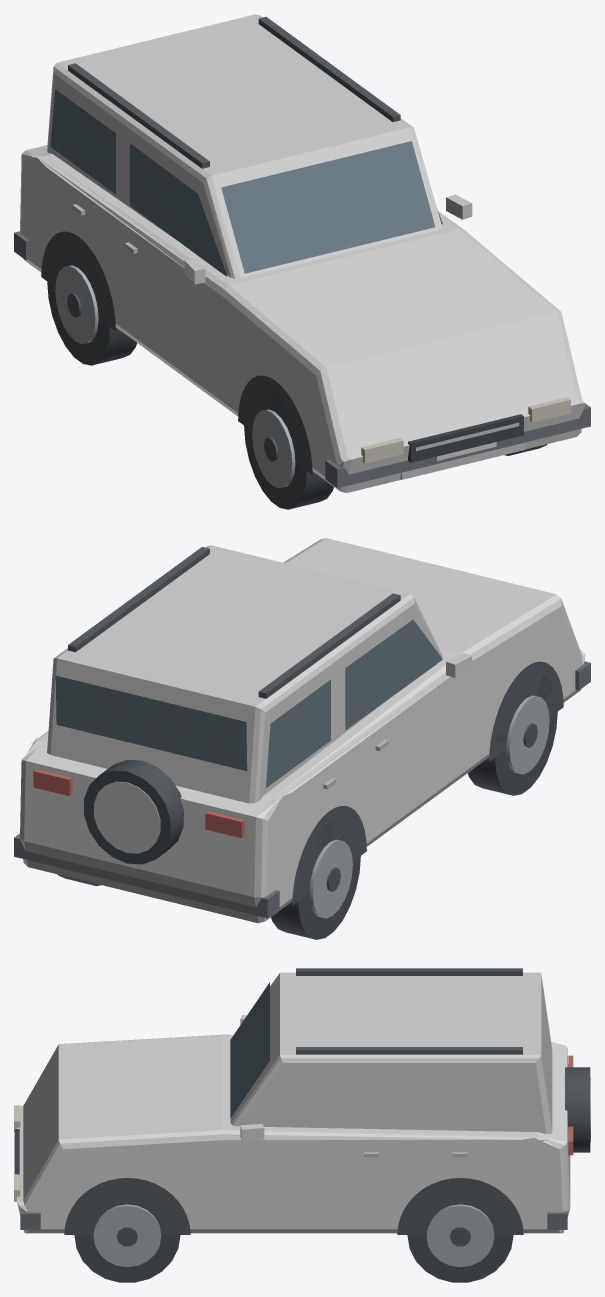
The model's file is suv.glb.
3 renders of one model, top to bottom at view 1: azimuth 30°, elevation 25°; view 2: azimuth 150°, elevation 25°; view 3: azimuth 270°, elevation 25°, orthographic. The views are drawn at different scales.
Visible parts, largest first — view 1: suv; view 2: suv; view 3: suv.
Boxes of the visible parts, <box> form: suv: <box>14,14,590,509</box>; suv: <box>14,538,590,939</box>; suv: <box>14,968,590,1282</box>.
Bounding box in the file's own units: 2.15 × 1.94 × 4.56.
